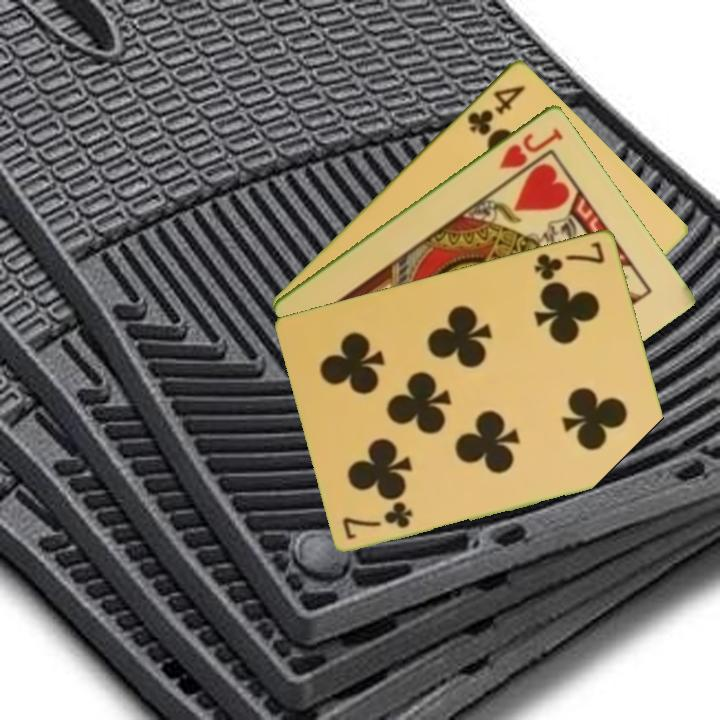4c: (463, 80, 528, 139)
7c: (531, 237, 608, 283), (339, 499, 416, 542)
Jh: (496, 123, 566, 171)
